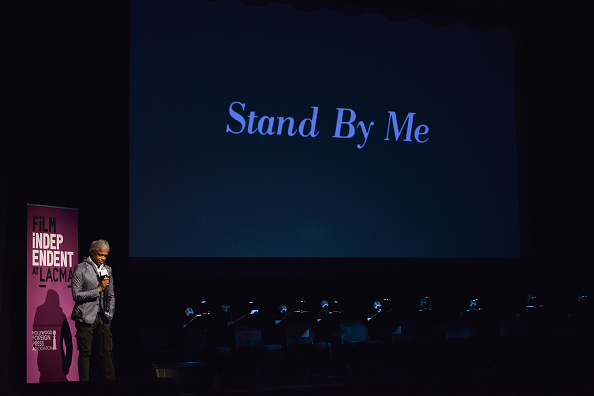em pe: (64, 228, 119, 396)
